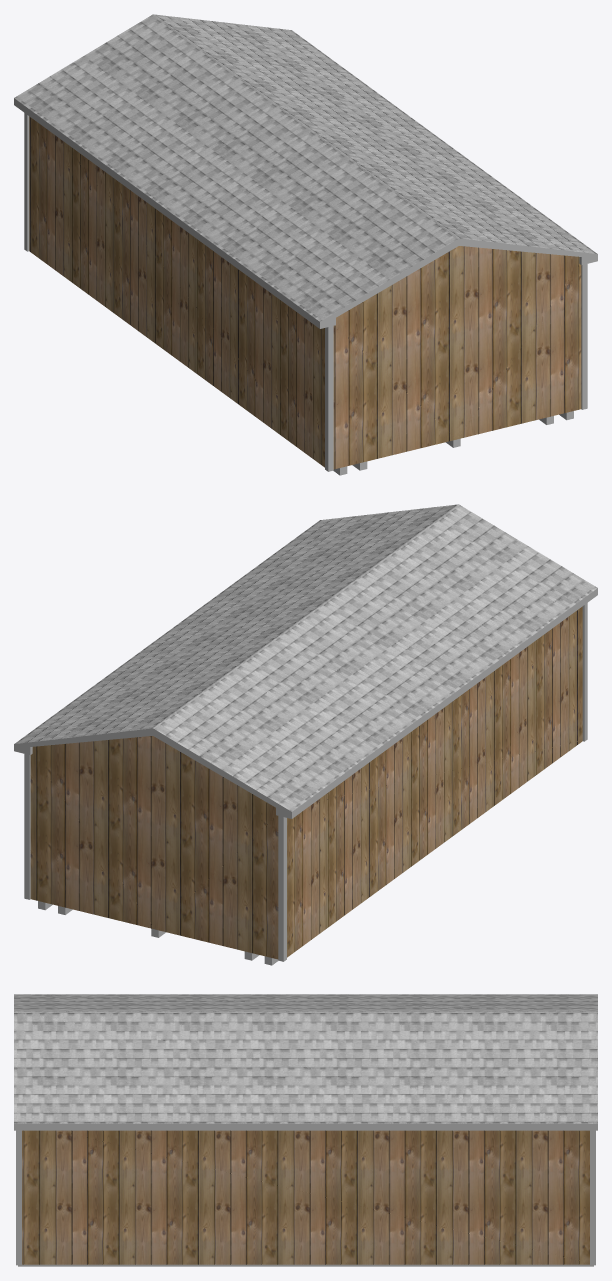
File: A-frame_12x24.obj
The picture shows the model from 3 angles, top to bottom: view 1: azimuth 30°, elevation 25°; view 2: azimuth 150°, elevation 25°; view 3: azimuth 270°, elevation 25°; orthographic projection. The views are drawn at different scales.
Parts seen in each view (by area): view 1: Roof, Shed, Sides, Trim; view 2: Roof, Shed, Sides, Trim; view 3: Shed, Roof, Sides, Floor, Trim.
Boxes of the visible parts, box(x1,y1,x2,y2) form: Roof: box(14, 14, 597, 321); Shed: box(29, 116, 581, 469); Sides: box(14, 98, 597, 328); Trim: box(24, 113, 587, 471); Roof: box(14, 504, 597, 811); Shed: box(30, 606, 582, 959); Sides: box(14, 588, 597, 818); Trim: box(24, 603, 587, 961); Shed: box(22, 1130, 589, 1264); Roof: box(14, 994, 597, 1123); Sides: box(14, 1123, 597, 1130); Floor: box(18, 1264, 593, 1266); Trim: box(16, 1130, 595, 1265).
Size of the model in its own units: 3.89 by 2.81 by 7.42.
